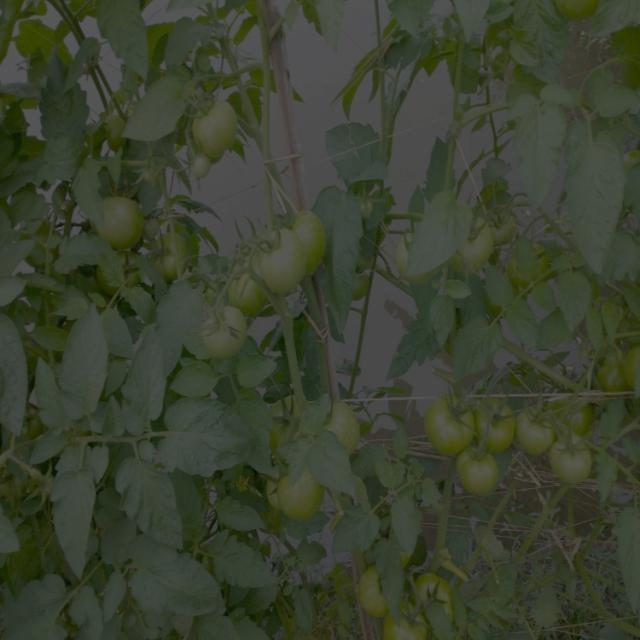tomato: (249, 224, 308, 300), (196, 104, 252, 165), (445, 215, 502, 270), (554, 427, 601, 493), (423, 394, 474, 454), (474, 389, 519, 457), (259, 474, 325, 518), (199, 307, 247, 362), (99, 191, 142, 252), (460, 447, 502, 504), (516, 406, 560, 460), (332, 397, 368, 457), (225, 263, 263, 319), (354, 565, 388, 620), (383, 602, 432, 640), (597, 347, 629, 402), (155, 232, 193, 275), (421, 573, 458, 613), (293, 201, 315, 268)
